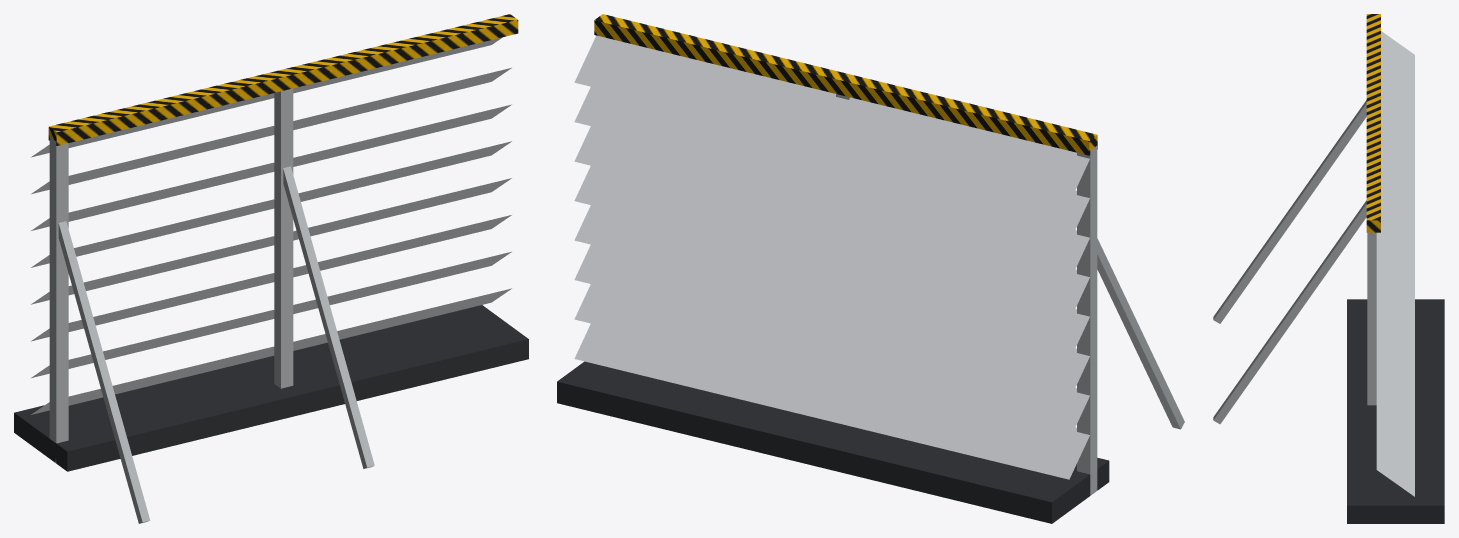
The model's file is blast_fence.glb.
3 renders of one model, left to right at view 1: azimuth 30°, elevation 25°; view 2: azimuth 150°, elevation 25°; view 3: azimuth 270°, elevation 25°, orthographic. The views are drawn at different scales.
Visible parts, largest first — view 1: LOD0; view 2: LOD0; view 3: LOD0.
Boxes of the visible parts, x1,y1,x2,y2 form: LOD0: [14, 14, 528, 523]; LOD0: [557, 14, 1184, 523]; LOD0: [1213, 14, 1444, 523].
Size of the model in its own units: 6 by 4.15 by 2.84.
Materials: 4 (1 with a texture image).
